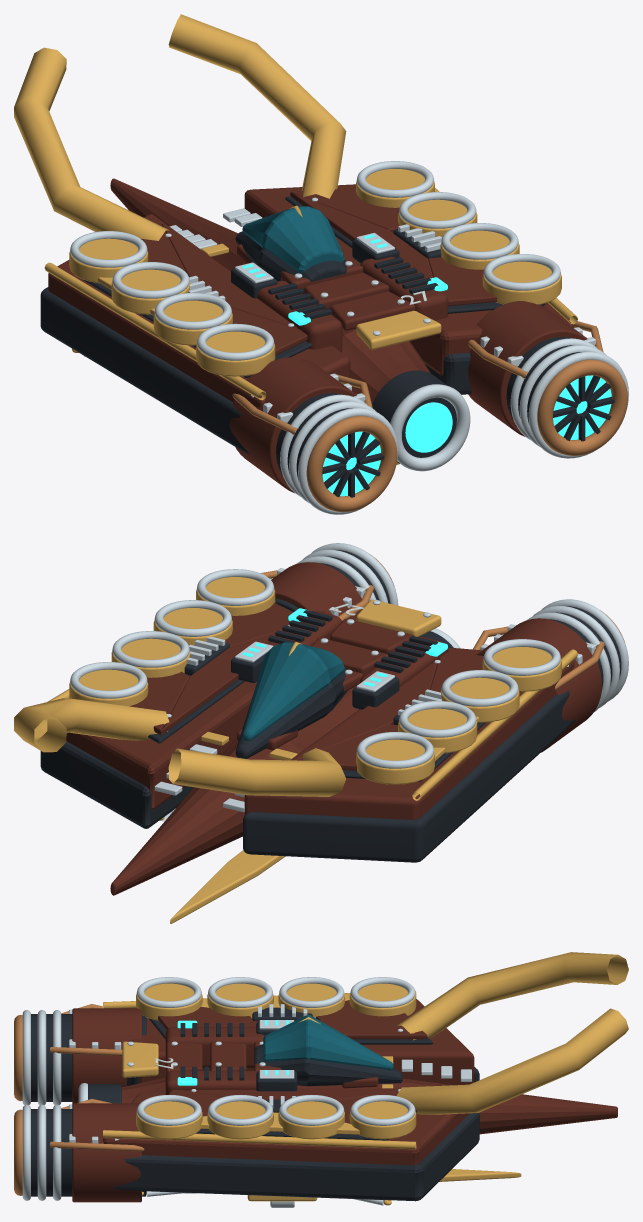
3 renders of one model, top to bottom at view 1: azimuth 30°, elevation 25°; view 2: azimuth 150°, elevation 25°; view 3: azimuth 270°, elevation 25°, orthographic. The views are drawn at different scales.
Parts seen in each view (by area): view 1: SolidHull_27; view 2: SolidHull_27; view 3: SolidHull_27.
Part boxes in pixels (x1,y1,x2,y2): SolidHull_27: (14,14,628,514); SolidHull_27: (14,543,628,923); SolidHull_27: (14,952,628,1207).
Bounding box in the file's own units: 2.45 × 1.42 × 4.06.
